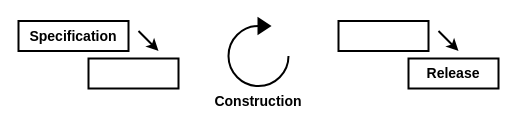
The diagram is 516 pixels wide and 133 high, and some of its shapes have lost their labels. Here are the shapes that lost their labels. From the top down, the box of each, then its label:
(337, 20, 429, 52): UAT
(87, 57, 179, 89): Design
